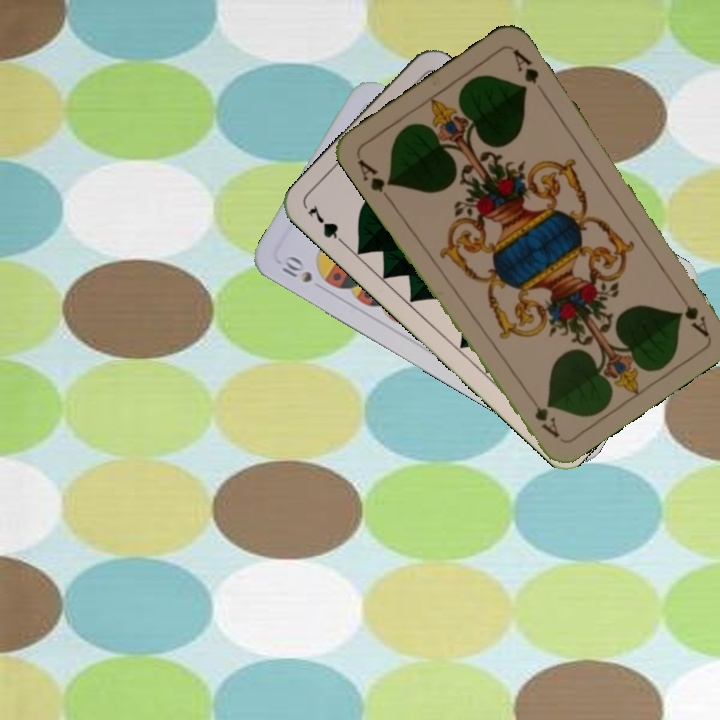G7: (303, 201, 351, 250)
GA: (353, 155, 396, 205), (672, 286, 711, 339)
S10: (278, 251, 315, 286)
